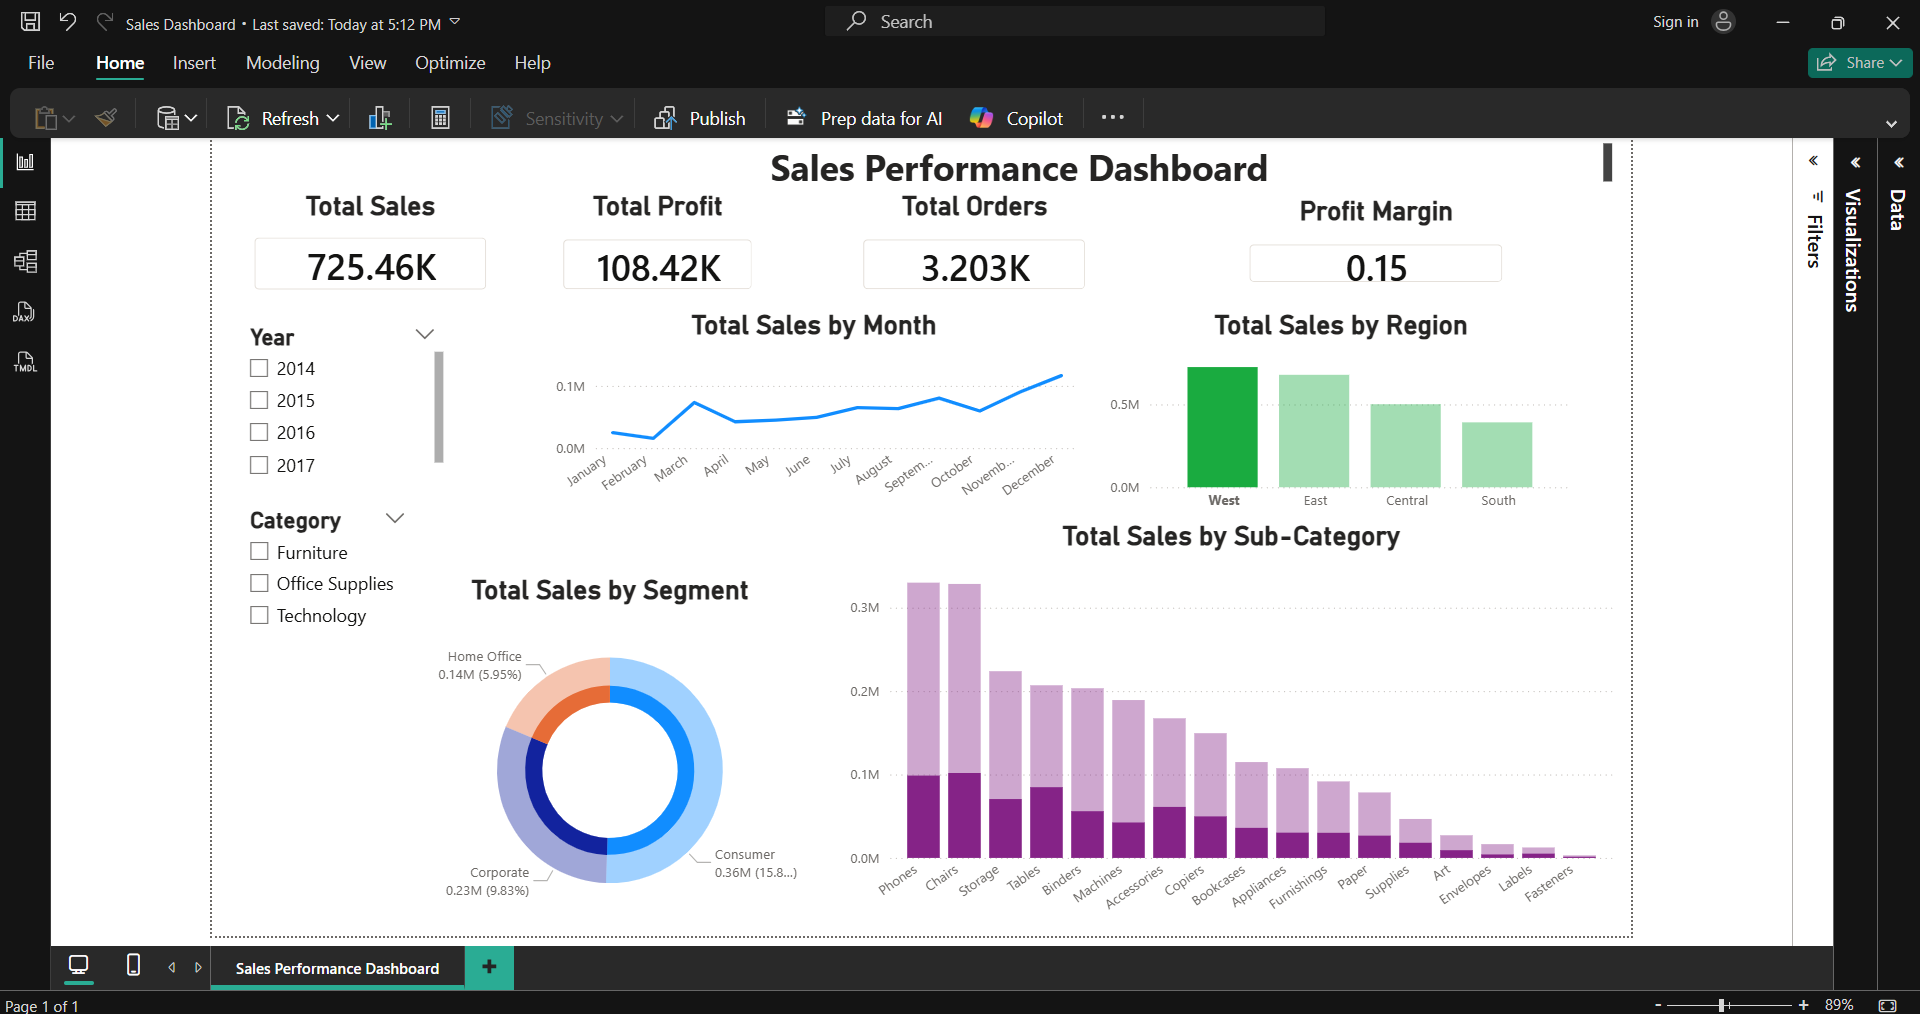

This screenshot's page, from the dashboard's own definition file:
{"tool":"powerbi","page":{"name":"Sales Performance Dashboard","canvas":[1280,720],"ordinal":0},"visuals":[{"type":"cardVisual","title":"Total Sales","fields":{"Data":["Sum(Orders$FilterDatabase.Sales)"]},"box":[20.9,47.7,243,107],"z":0},{"type":"cardVisual","title":"Total Profit","fields":{"Data":["Sum(Orders$FilterDatabase.Profit)"]},"box":[300,47.7,204.7,107],"z":1000},{"type":"cardVisual","title":"Total Orders","fields":{"Data":["CountNonNull(Orders$FilterDatabase.Order ID)"]},"box":[569.8,47.7,234.9,107],"z":2000},{"type":"cardVisual","title":"Profit Margin","fields":{"Data":["Orders$FilterDatabase.Profit Margin"]},"box":[918.6,52.3,262.8,95.3],"z":3000},{"type":"lineChart","title":"Total Sales by Month","fields":{"Category":["Orders$FilterDatabase.Order Date.Variation.Date Hierarchy.Month"],"Y":["Sum(Orders$FilterDatabase.Sales)"]},"box":[300,154.7,486,181.4],"z":4000},{"type":"clusteredColumnChart","title":"Total Sales by Region","fields":{"Category":["Orders$FilterDatabase.Region"],"Y":["Sum(Orders$FilterDatabase.Sales)"]},"box":[804.7,154.7,426.7,190.7],"z":5000},{"type":"clusteredColumnChart","title":"Total Sales by Sub-Category","fields":{"Category":["Orders$FilterDatabase.Sub-Category"],"Y":["Sum(Orders$FilterDatabase.Sales)"]},"box":[569.8,345.3,697.7,374.4],"z":6000},{"type":"slicer","fields":{"Values":["Orders$FilterDatabase.Order Date.Variation.Date Hierarchy.Year"]},"box":[20.9,162.8,191.9,147.7],"z":8000},{"type":"slicer","fields":{"Values":["Orders$FilterDatabase.Category"]},"box":[20.9,327.9,165.1,129.1],"z":9000},{"type":"textbox","box":[196.4,0,1071.5,48.1],"z":10000},{"type":"donutChart","title":"Total Sales by Segment","fields":{"Category":["Orders$FilterDatabase.Segment"],"Y":["Sum(Orders$FilterDatabase.Sales)"]},"box":[174.4,393,368.6,326.7],"z":10001}]}

Visuals, with their boxes on the page's 1280x720 design canvas (x1, y1, x2, y2). These are canvas units, not pixel positions in the 1920x1014 screenshot, which may show the page scaled, cropped or inside an application window:
"Total Sales" cardVisual: 21,48,264,155
"Total Profit" cardVisual: 300,48,505,155
"Total Orders" cardVisual: 570,48,805,155
"Profit Margin" cardVisual: 919,52,1181,148
"Total Sales by Month" lineChart: 300,155,786,336
"Total Sales by Region" clusteredColumnChart: 805,155,1231,345
"Total Sales by Sub-Category" clusteredColumnChart: 570,345,1268,720
slicer - Orders$FilterDatabase.Order Date.Variation.Date Hierarchy.Year: 21,163,213,310
slicer - Orders$FilterDatabase.Category: 21,328,186,457
textbox: 196,0,1268,48
"Total Sales by Segment" donutChart: 174,393,543,720
